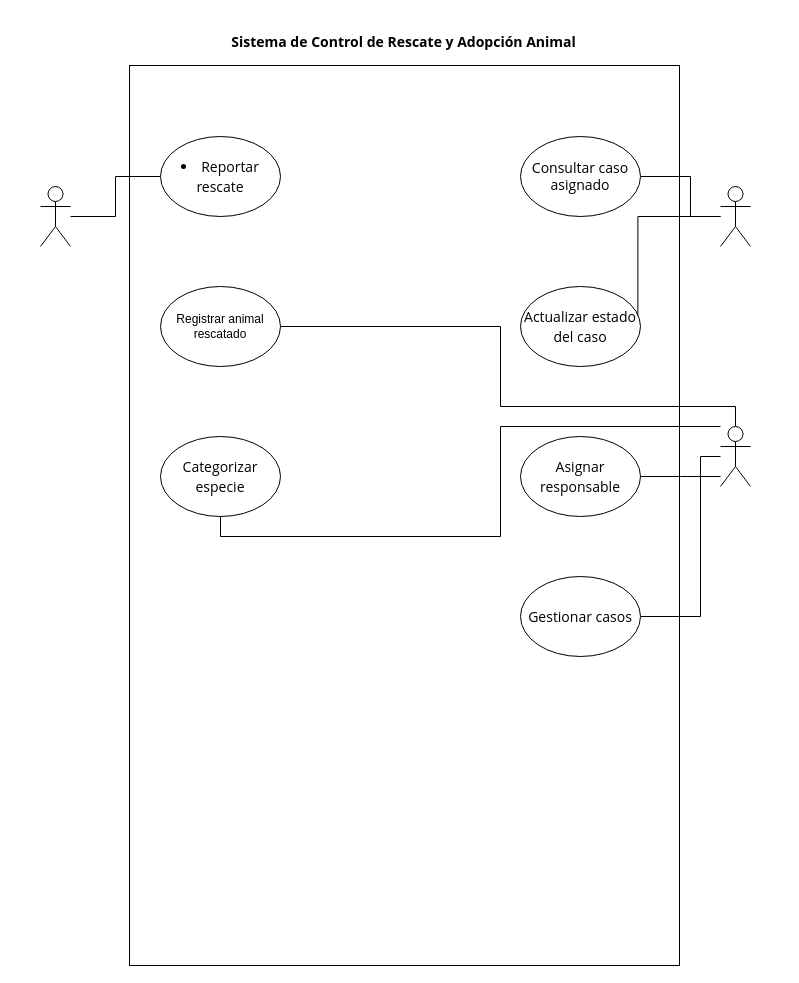
Image size: 799x983. Some labels were removed from this diagram. The shapes that lost their labels are listed below. From the top down, each one's box as (x1, y1, x2, y2) in pixels, then its label:
(40, 186, 70, 246): Ciudadano/ Reportante
(720, 186, 750, 246): Voluntario/ Veterinario
(720, 426, 750, 486): Administrador del Refugio
